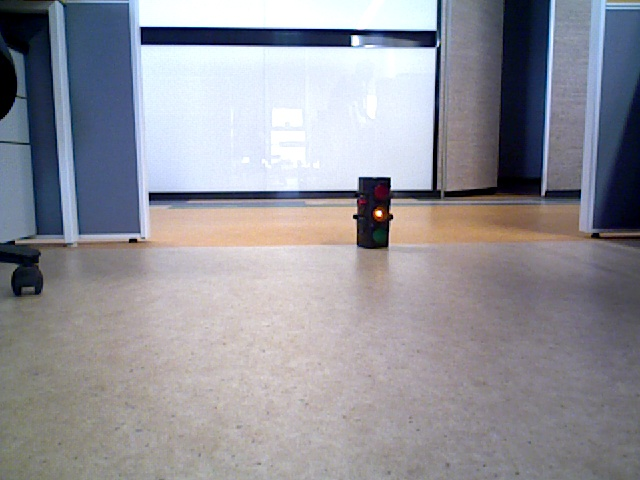yellow: (359, 178, 385, 244)
